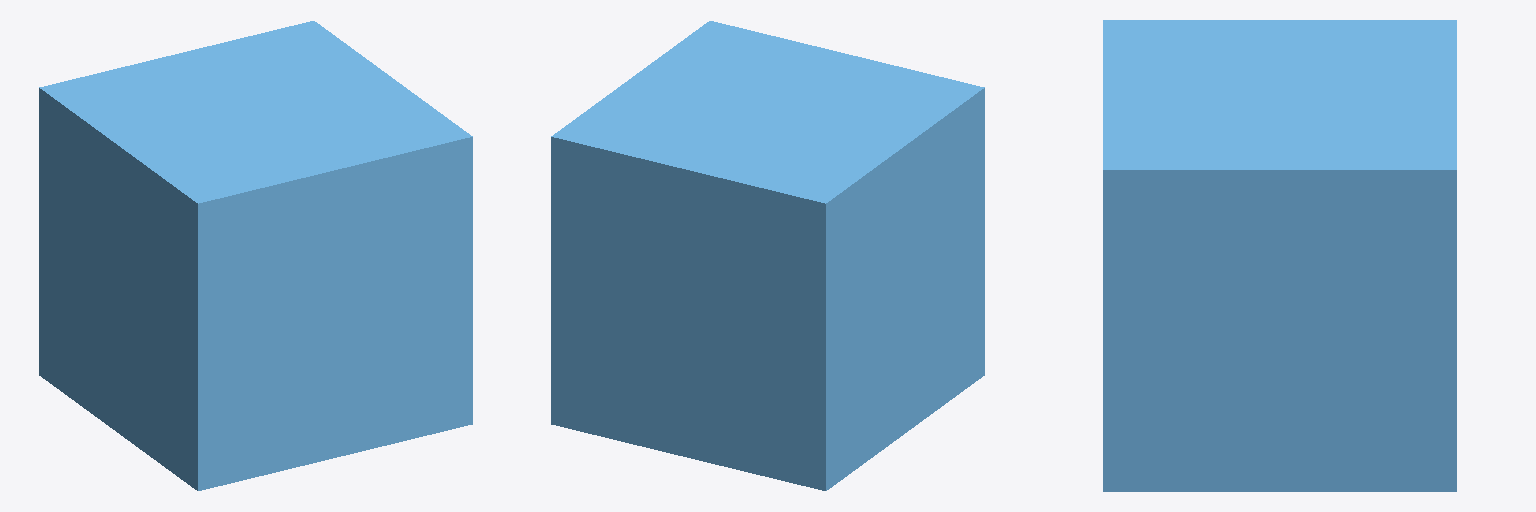
URDF robot description (ball):
<?xml version="1.0" ?>
<robot name="ball">
    <material name="light_gold">
        <color rgba="0.9333333333333333 0.8627450980392157 0.5098039215686274 1"/>
    </material>
    <material name="gray">
        <color rgba="0.7450980392156863 0.7450980392156863 0.7450980392156863 1"/>
    </material>
    <material name="red">
        <color rgba="1 0 0 1"/>
    </material>
    <material name="orange">
        <color rgba="1 0.647058823 0 1"/>
    </material>
     <material name="yellow">
        <color rgba="1 1 0 1"/>
    </material>
    <material name="green">
        <color rgba="0 0.9803921 0.603921   1"/>
    </material>

    <material name="blue">
        <color rgba="0.52941176 0.807843 1   1"/>
    </material>
    <material name="purple">
        <color rgba="0.698 0.2274509 0.933333   1"/>
    </material>


  <link name="ballLink">
    <contact>
      <lateral_friction value="1"/>
    </contact>
    <inertial>
      <origin rpy="0 0 0" xyz="0 0 0"/>
       <mass value="0.021"/>
       <inertia ixx="0.0000028" ixy="0" ixz="0" iyy="0.0000028" iyz="0" izz="0.0000028"/>
    </inertial>
    <visual>
      <origin rpy="0 0 0" xyz="0 0 0"/>
      <geometry>
			<box size= "0.03 0.03 0.03"  />
      </geometry>
        <material name="blue"/>
    </visual>
    <collision>
    <origin rpy="0 0 0" xyz="0 0 0. "/>
      <geometry>
            <box size="0.03 0.03 0.03"/>
      </geometry>
    </collision>
  </link>
</robot>

--- What the picture shows (computed from the rendered views, not written in the file) ---
Views: 3 orthographic renders of the robot side by side, from view 1: azimuth 30°, elevation 25°; view 2: azimuth 150°, elevation 25°; view 3: azimuth 270°, elevation 25°.
Model ball with 1 links and 0 joints (none), rooted at ballLink, posed all joints at 0.
Visible links, largest first — view 1: ballLink; view 2: ballLink; view 3: ballLink.
Link boxes in pixels (box(x1,y1,x2,y2)): ballLink: box(39, 21, 472, 490); ballLink: box(551, 21, 984, 490); ballLink: box(1103, 20, 1456, 491).
Size in the robot's own frame: 0.03 by 0.03 by 0.03 metres.
Geometry: primitives only (box / cylinder / sphere), no mesh files.